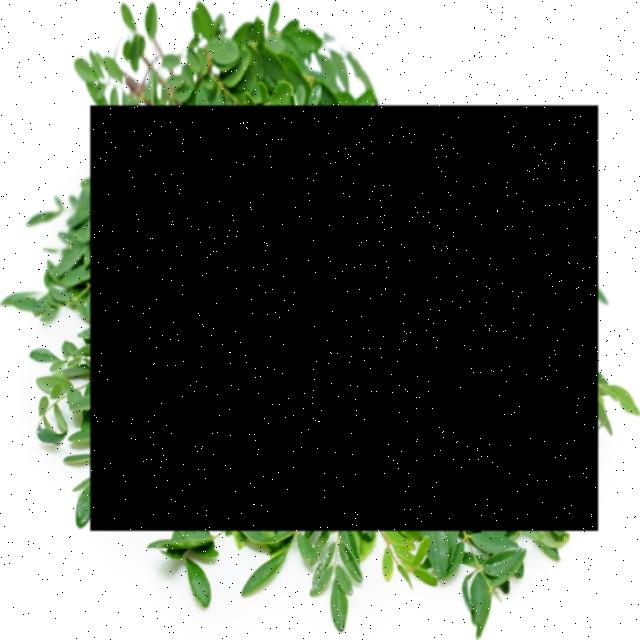Moringa_Leaves: (91, 105, 599, 531)
